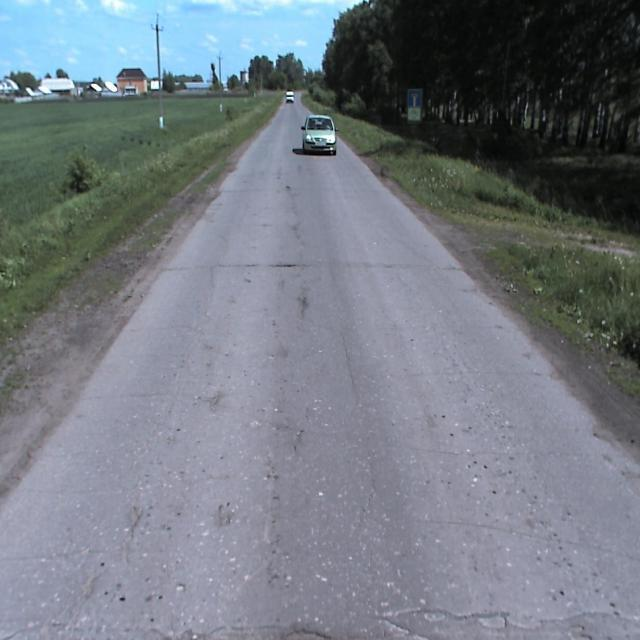road: (0, 90, 639, 639)
